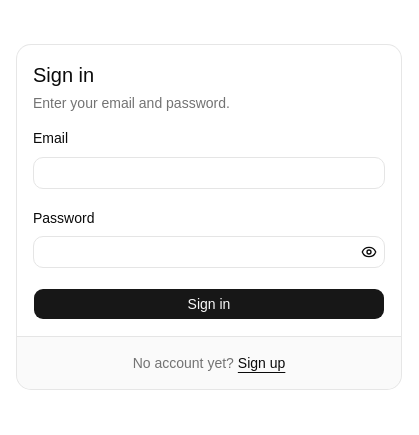
Scenario: signin: checks email format and a non-empty password only; a short password is sent
Type "nope" into the field labelled "Email" at (209, 172), box [33,156,385,188]
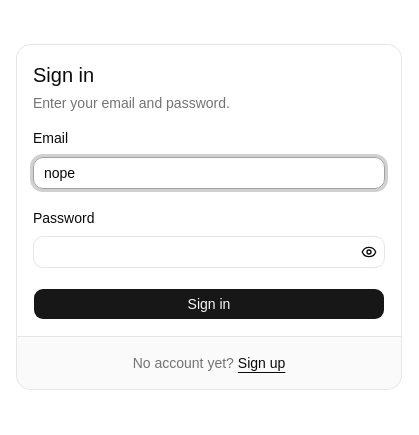
Click the button "Sign in" at (209, 304), box [33,288,385,320]
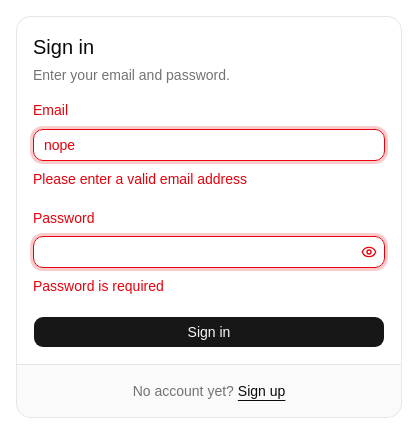
Replace the text in the field labelled "Email" with "ann@example.com" at (209, 144), box [33,128,385,160]
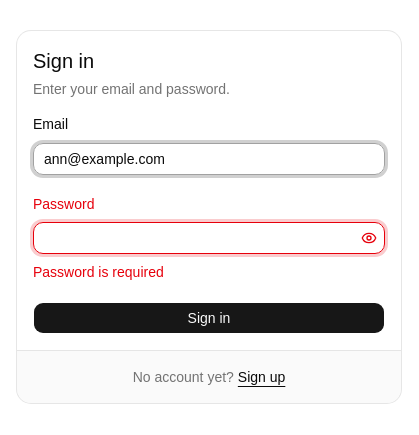
Type "short" into the password field labelled "Password" at (209, 238), box [33,222,385,254]
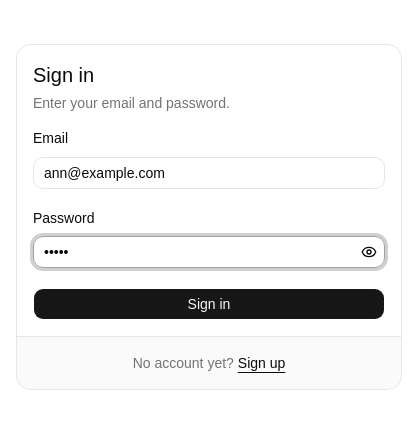
Click the button "Sign in" at (209, 304), box [33,288,385,320]
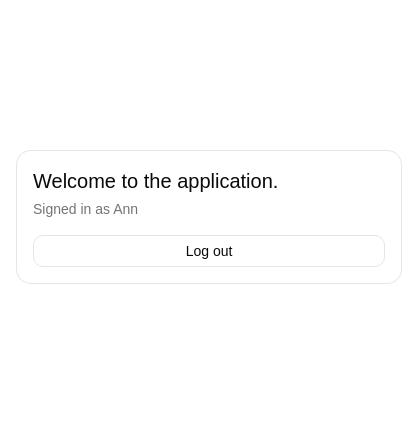
Expected: the heading "Welcome to the application." is shown, [33,170,278,192]
